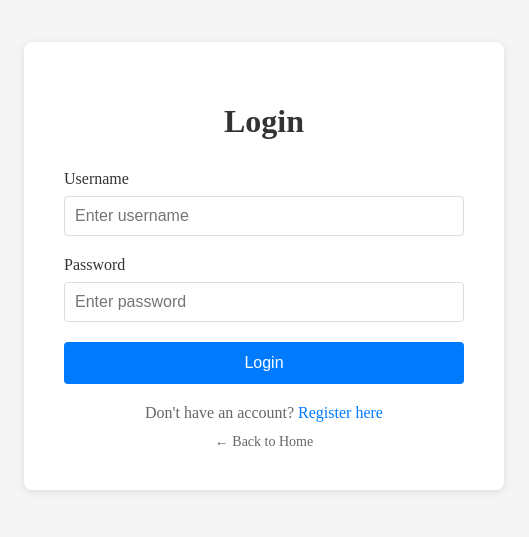
Test: Frontend Tests › Login Page › should validate required fields
Step 1. Click the button "Login" → (264, 363), box 64,342 -> 464,384
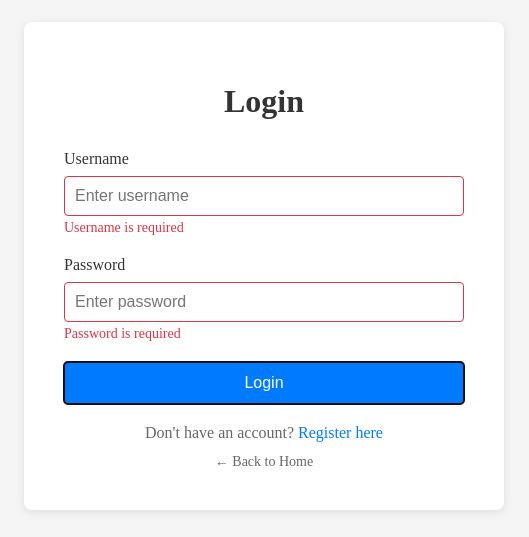
Now the text "Username is required" is shown, box 64,220 -> 184,235
Now the text "Password is required" is shown, box 64,326 -> 181,341
